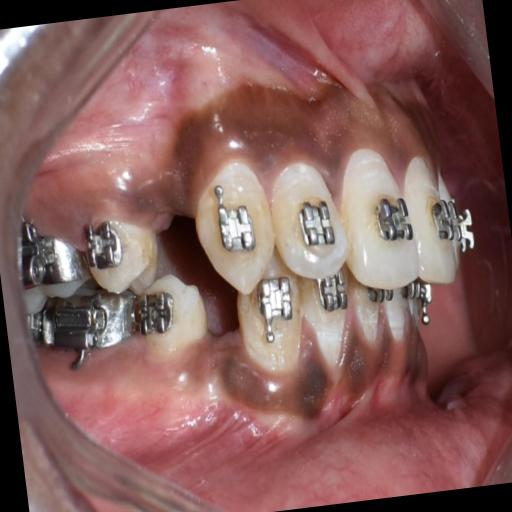correct_brace: (76, 201, 164, 302), (362, 178, 416, 258), (211, 192, 260, 262), (292, 194, 339, 254)
incorrect_brace: (264, 153, 351, 291), (82, 216, 126, 272)
